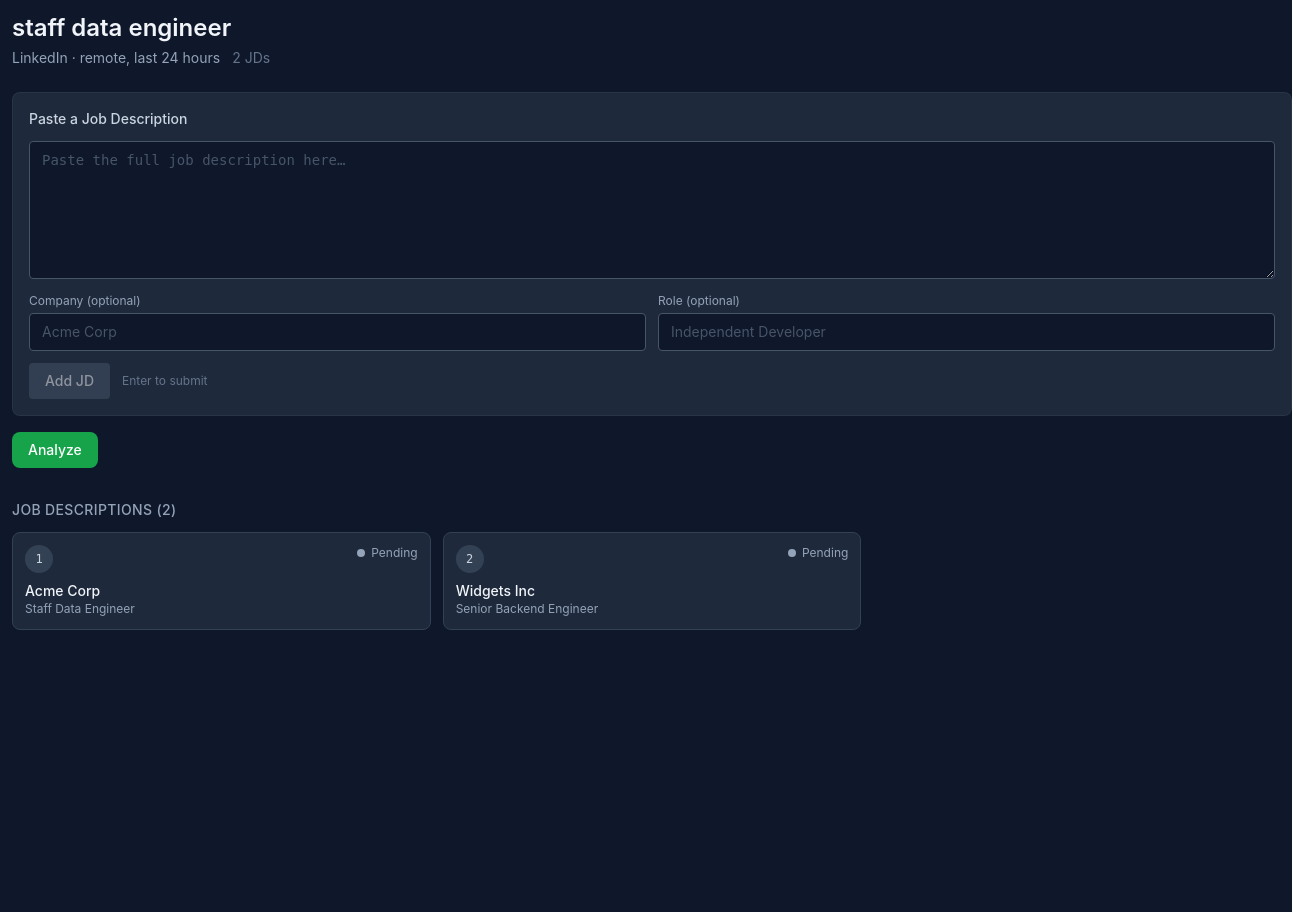
Scenario: SessionDetailPage — Analyze button › shows warning banner on 409 conflict (analysis already running)
Click the button with test id "analyze-button". click: (55, 450)
box: [12,432,98,468]
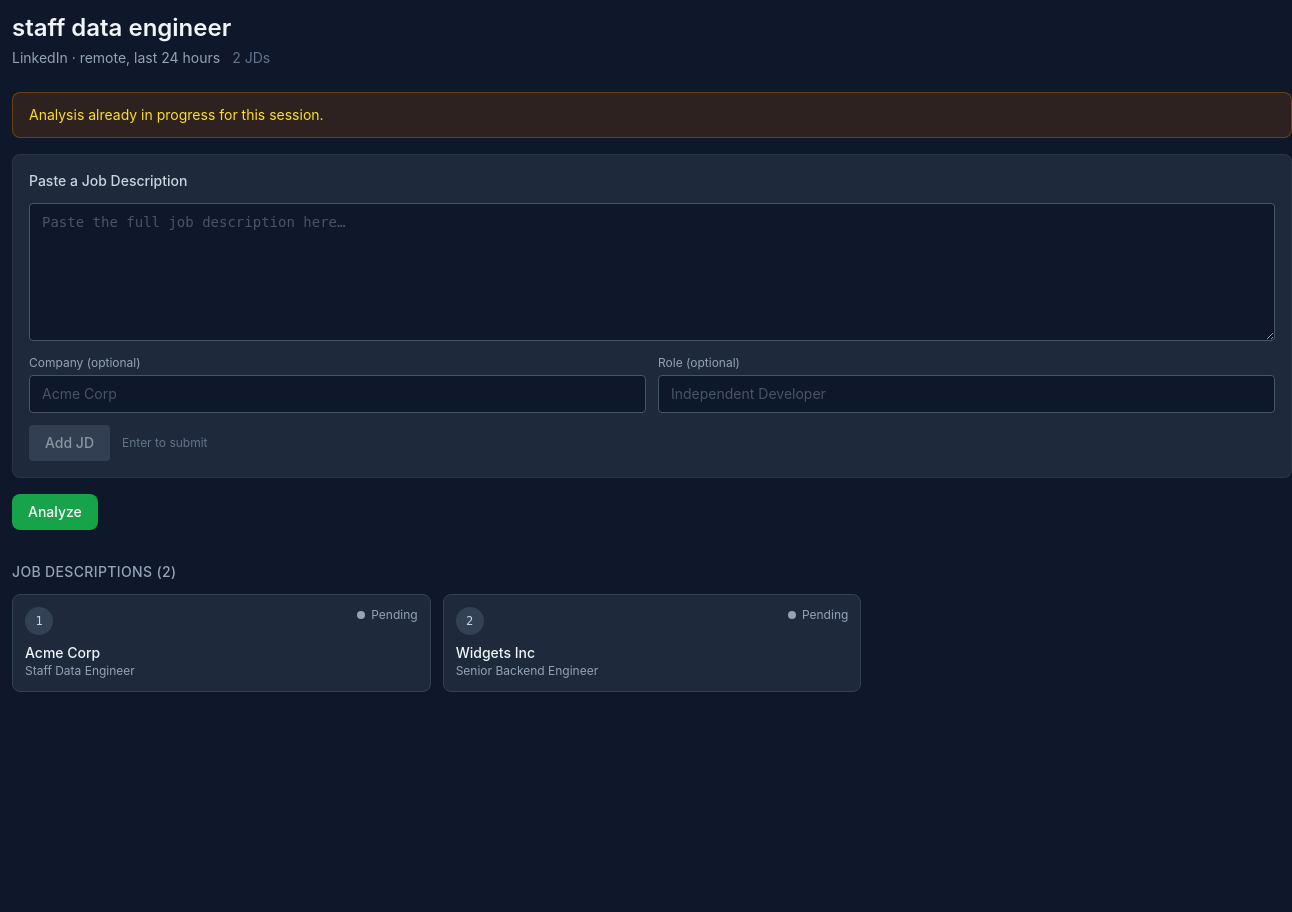
Now the element with test id "warning-banner" is shown, box [12,92,1291,138]
Now the text "Analysis already in progress for this session." is shown, box [29,106,324,123]
